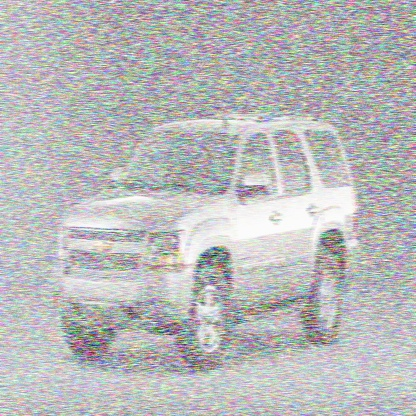Vehicle: (52, 103, 363, 369)
